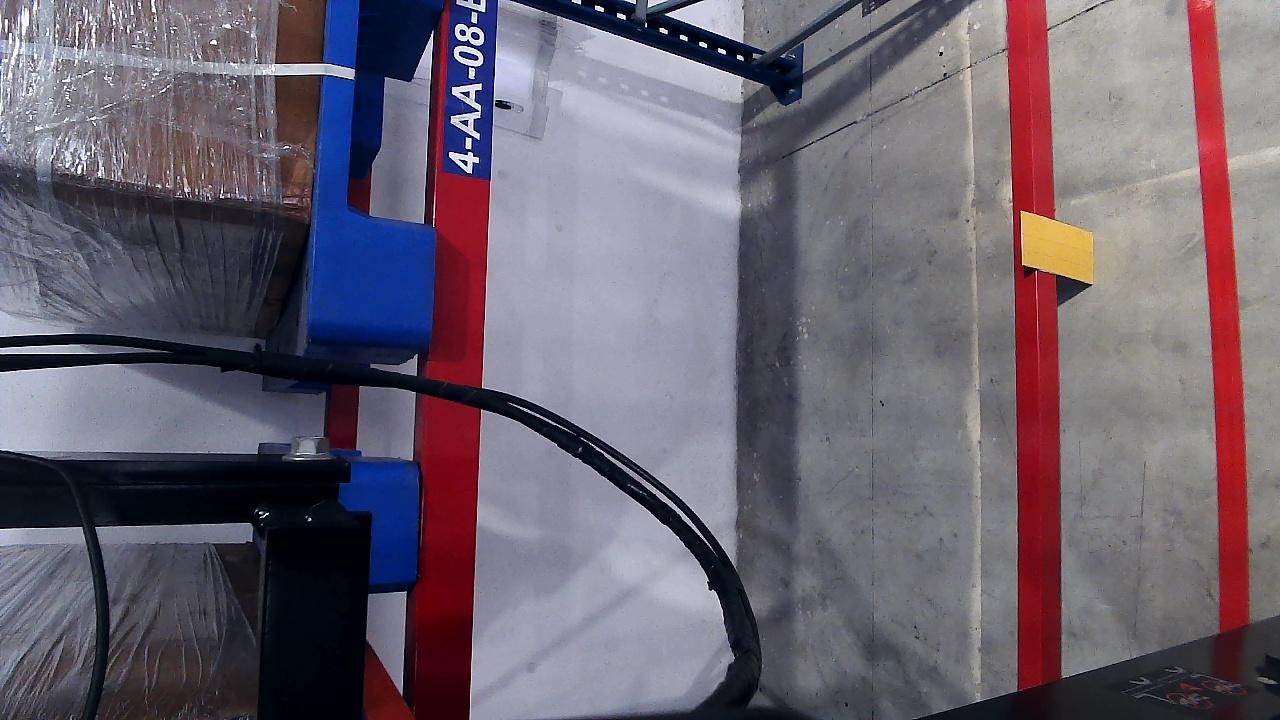h_rack: (408, 0, 489, 719), (1006, 0, 1060, 696)
orange_strip: (1017, 208, 1094, 286)
red_line: (1183, 0, 1248, 596)
small_pallet: (321, 0, 448, 330)
